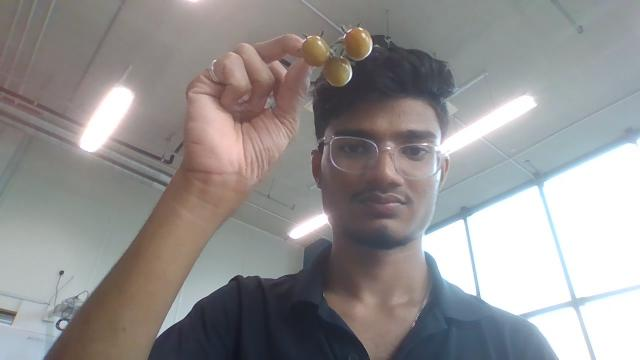Fully Grown: (343, 26, 374, 61), (300, 34, 331, 68), (322, 55, 352, 88)
